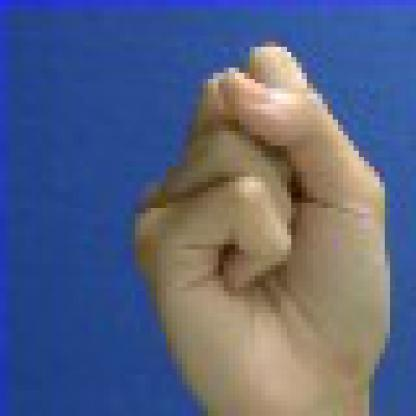zero: (88, 15, 411, 410)
